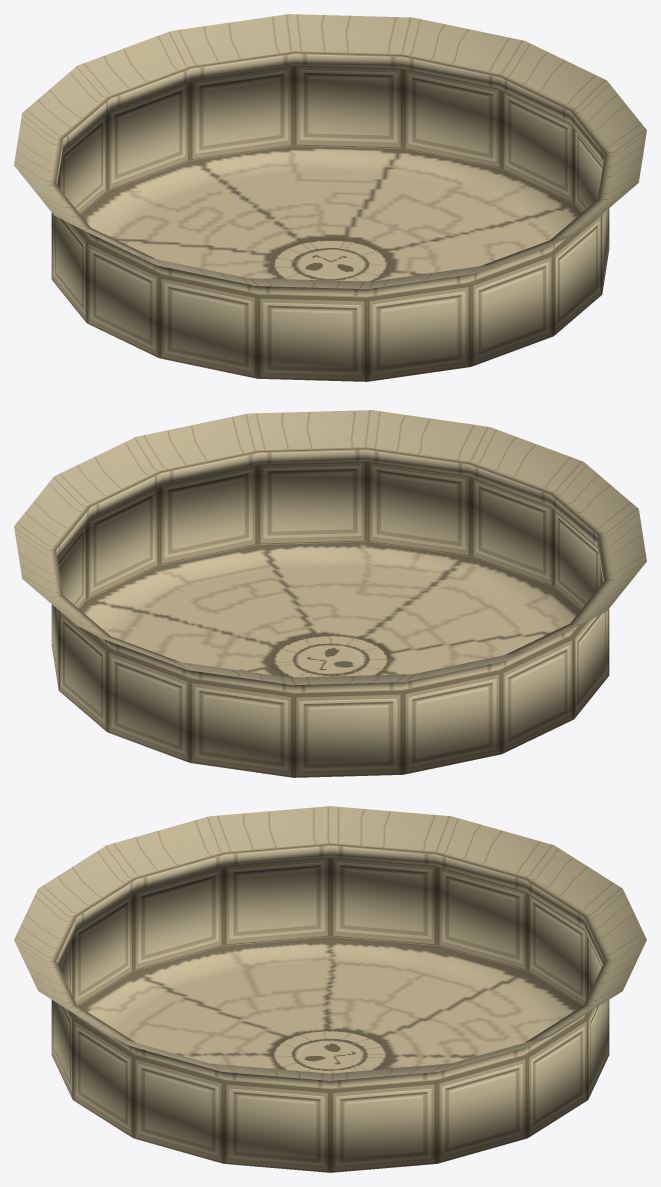
File: env_colliseum.gltf
3 views of the same model, one above another, from view 1: azimuth 30°, elevation 25°; view 2: azimuth 150°, elevation 25°; view 3: azimuth 270°, elevation 25° (orthographic).
Parts seen in each view (by area): view 1: Colliseum-col; view 2: Colliseum-col; view 3: Colliseum-col.
Boxes of the visible parts, x1=… form: Colliseum-col: x1=14, y1=14, x2=646, y2=381; Colliseum-col: x1=14, y1=410, x2=646, y2=777; Colliseum-col: x1=14, y1=806, x2=646, y2=1172.
Bounding box in the file's own units: 34.04 × 6.83 × 34.04.
1 material, 1 textured.
